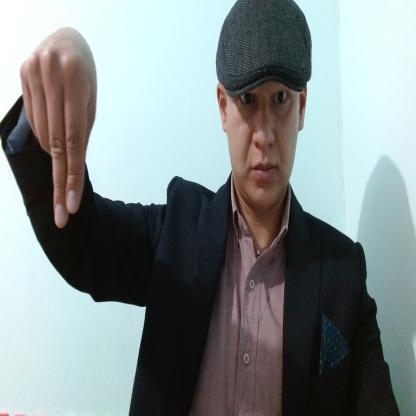N: (20, 27, 96, 231)
